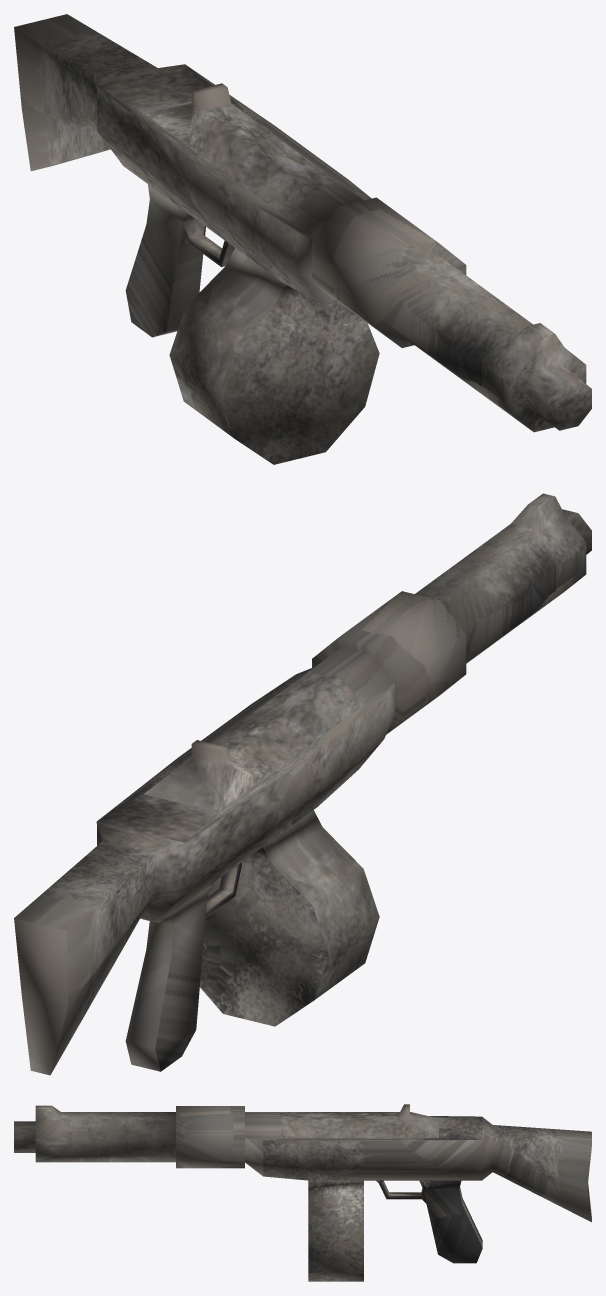
Rendered from gun1.fbx.
3 renders of one model, top to bottom at view 1: azimuth 30°, elevation 25°; view 2: azimuth 150°, elevation 25°; view 3: azimuth 270°, elevation 25°, orthographic. The views are drawn at different scales.
Visible parts, largest first — view 1: GUN_big; view 2: GUN_big; view 3: GUN_big.
Boxes of the visible parts, left/top/right/bottom form: GUN_big: left=14, top=14, right=591, bottom=464; GUN_big: left=14, top=493, right=591, bottom=1075; GUN_big: left=14, top=1104, right=591, bottom=1281.
Bounding box in the file's own units: 26.57 × 48.57 × 152.
